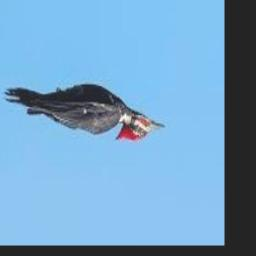Woodpecker: (3, 84, 164, 143)
